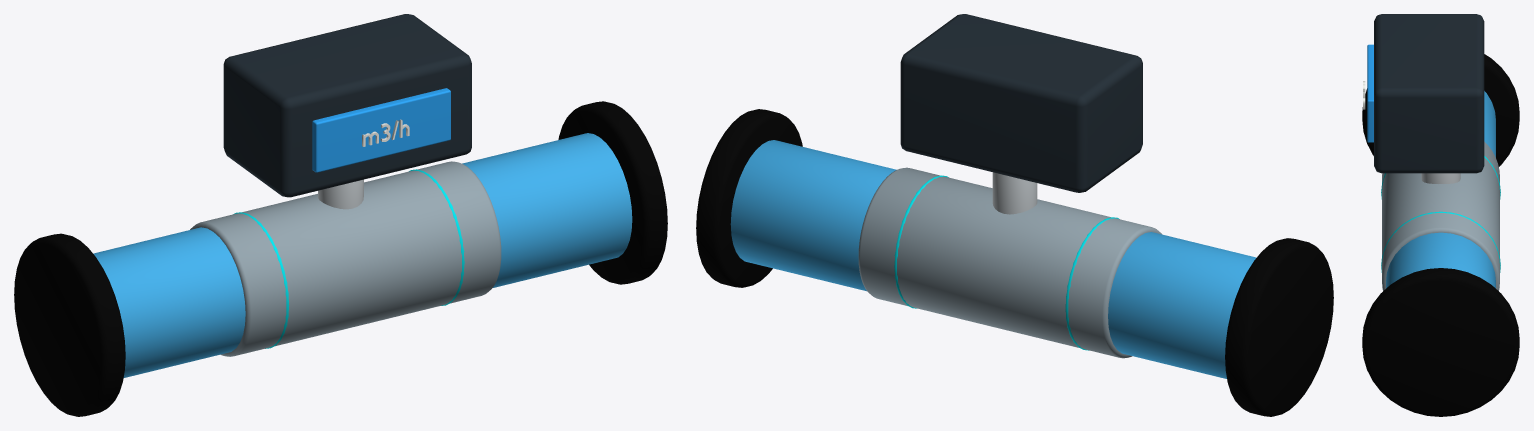
The model's file is flow-meter.glb.
The picture shows the model from 3 angles, left to right: view 1: azimuth 30°, elevation 25°; view 2: azimuth 150°, elevation 25°; view 3: azimuth 270°, elevation 25°; orthographic projection. The views are drawn at different scales.
Parts seen in each view (by area): view 1: flow meter inline measuring tube, flow meter black display housing, flow meter right short interface sleeve, flow meter left short interface sleeve, flow meter left dark flange gasket, flow meter right dark flange gasket, flow meter blue display, flow meter vertical neck; view 2: flow meter inline measuring tube, flow meter black display housing, flow meter right short interface sleeve, flow meter left short interface sleeve, flow meter left dark flange gasket, flow meter right dark flange gasket, flow meter vertical neck; view 3: flow meter right dark flange gasket, flow meter black display housing, flow meter inline measuring tube, flow meter right short interface sleeve, flow meter left dark flange gasket, flow meter blue display, flow meter left short interface sleeve, flow meter vertical neck, flow meter right register ring.
Boxes of the visible parts, x1=… form: flow meter inline measuring tube: x1=190, y1=161, x2=501, y2=356; flow meter black display housing: x1=223, y1=14, x2=471, y2=197; flow meter right short interface sleeve: x1=462, y1=133, x2=632, y2=287; flow meter left short interface sleeve: x1=93, y1=227, x2=245, y2=377; flow meter left dark flange gasket: x1=14, y1=233, x2=125, y2=416; flow meter right dark flange gasket: x1=558, y1=101, x2=667, y2=284; flow meter blue display: x1=312, y1=88, x2=450, y2=172; flow meter vertical neck: x1=318, y1=179, x2=363, y2=209; flow meter inline measuring tube: x1=858, y1=167, x2=1162, y2=358; flow meter black display housing: x1=900, y1=14, x2=1142, y2=192; flow meter right short interface sleeve: x1=730, y1=140, x2=896, y2=291; flow meter left short interface sleeve: x1=1108, y1=232, x2=1256, y2=378; flow meter left dark flange gasket: x1=1225, y1=238, x2=1333, y2=416; flow meter right dark flange gasket: x1=696, y1=109, x2=802, y2=287; flow meter vertical neck: x1=992, y1=172, x2=1037, y2=214; flow meter right dark flange gasket: x1=1362, y1=268, x2=1519, y2=416; flow meter black display housing: x1=1374, y1=14, x2=1484, y2=173; flow meter inline measuring tube: x1=1382, y1=141, x2=1499, y2=290; flow meter right short interface sleeve: x1=1386, y1=232, x2=1495, y2=288; flow meter left dark flange gasket: x1=1362, y1=54, x2=1519, y2=166; flow meter blue display: x1=1367, y1=44, x2=1373, y2=142; flow meter left short interface sleeve: x1=1484, y1=91, x2=1495, y2=157; flow meter vertical neck: x1=1421, y1=173, x2=1460, y2=183; flow meter right register ring: x1=1381, y1=211, x2=1500, y2=272.
Bounding box in the file's own units: 1.42 × 0.7 × 0.4.
